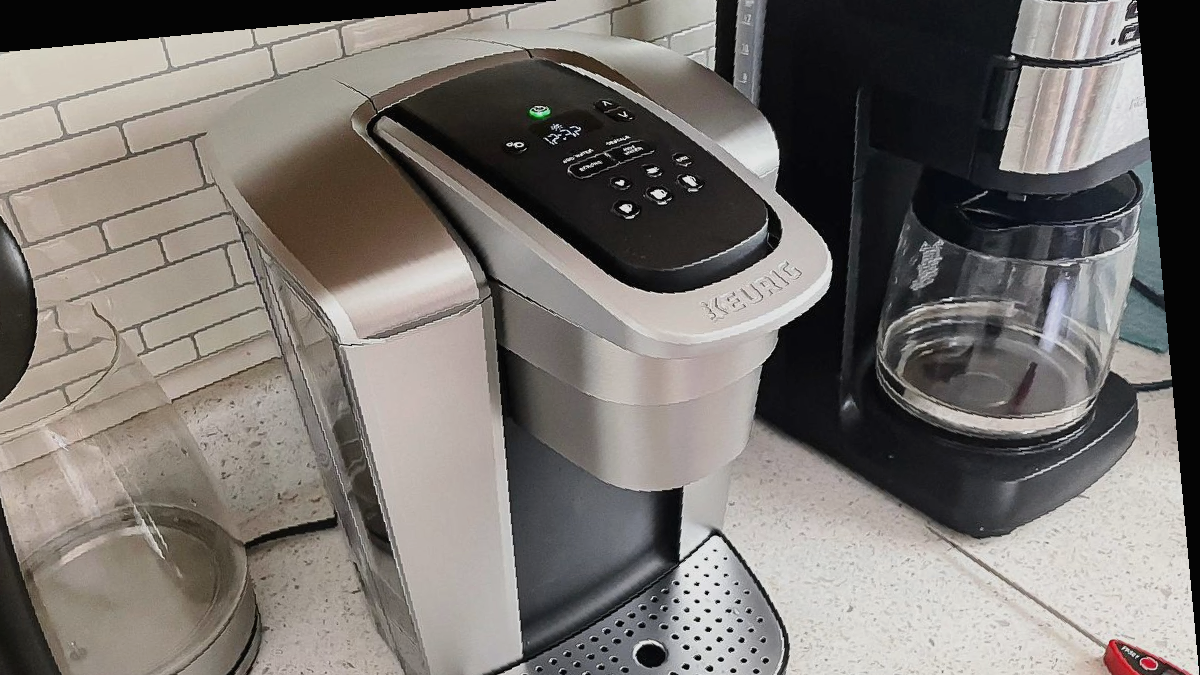10oz: (642, 184, 674, 206)
12oz: (675, 172, 706, 194)
4oz: (608, 175, 633, 191)
6oz: (638, 162, 664, 178)
8oz: (610, 199, 642, 220)
add_water: (559, 139, 598, 167)
descale: (601, 124, 634, 149)
hot: (610, 132, 659, 168)
iced: (670, 151, 696, 167)
power: (527, 104, 553, 119)
strong: (569, 148, 614, 185)
